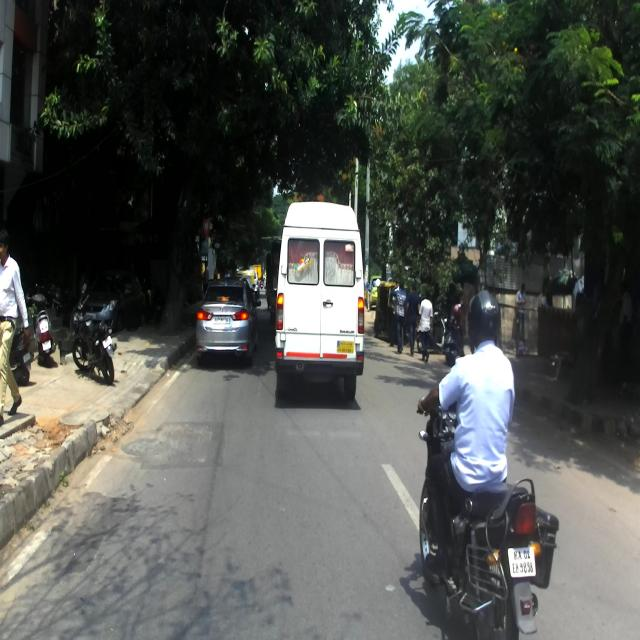Car_Honda: (192, 276, 258, 366)
Car_Maruti-Suzuki: (68, 263, 144, 336)
mini-bus: (273, 198, 365, 392)
motorcycle_TVS: (418, 394, 558, 639)
motorcycle_bajaj: (68, 281, 118, 383)
scooter: (25, 292, 56, 364)
